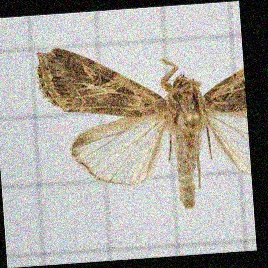Spodoptera litura: (40, 41, 246, 212)
